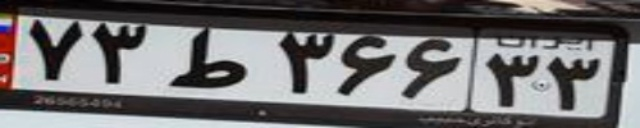3: (90, 21, 149, 85), (276, 30, 335, 94), (483, 51, 540, 109), (545, 55, 601, 112)
6: (400, 38, 466, 100), (338, 34, 395, 95)
7: (23, 17, 85, 82)
taa: (166, 25, 247, 89)
